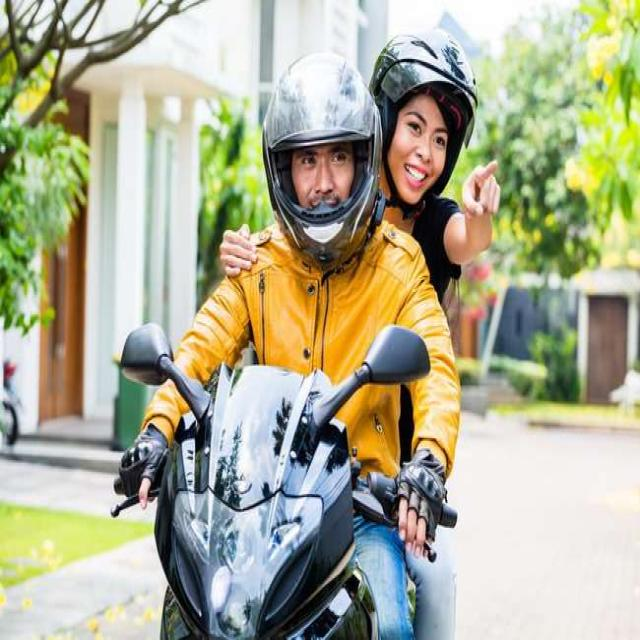Helm: (263, 46, 384, 270), (368, 23, 486, 209)
